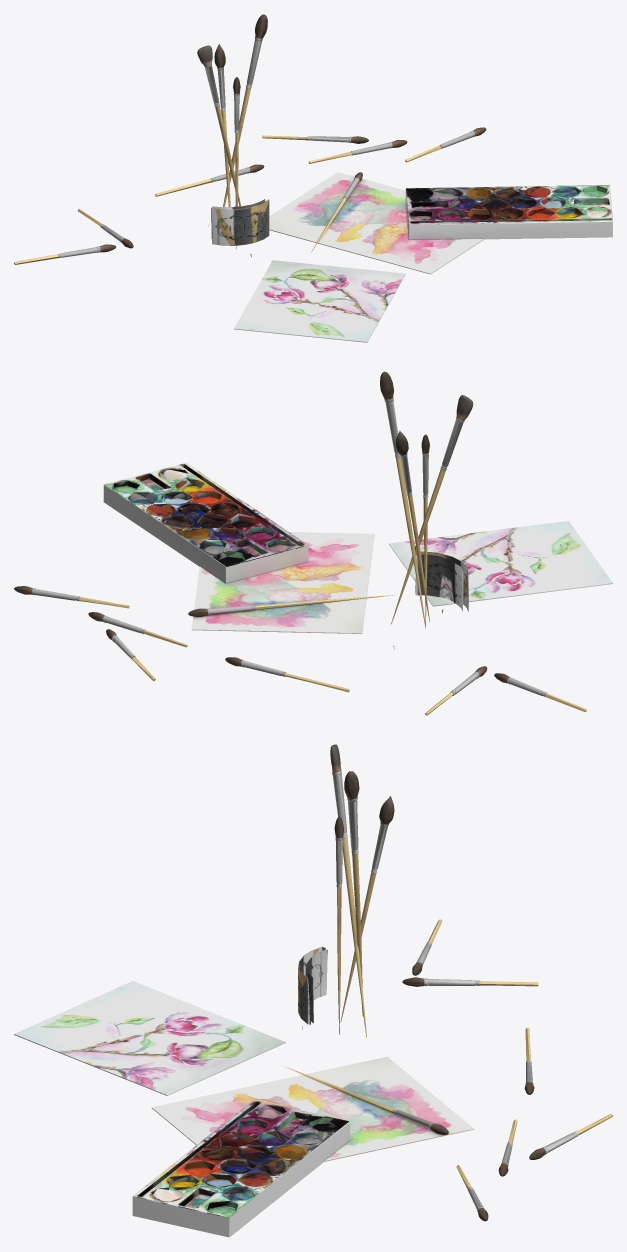
3 views of the same model, one above another, from view 1: azimuth 30°, elevation 25°; view 2: azimuth 150°, elevation 25°; view 3: azimuth 270°, elevation 25° (orthographic). The views are drawn at different scales.
Visible parts, largest first — view 1: solid_001, solid_002, solid_013, solid_012, solid_007, solid_004, solid_008, solid_005; view 2: solid_001, solid_002, solid_013, solid_012, solid_007, solid_008, glass_001, solid_005, solid_006, solid_011, solid_009; view 3: solid_002, solid_001, solid_013, solid_012, solid_007, solid_008, solid_005, glass_001, solid_011, solid_004, solid_006.
Part boxes in pixels (bbox=[...]): solid_001: bbox=[269, 172, 484, 274]; solid_002: bbox=[234, 260, 405, 342]; solid_013: bbox=[406, 185, 612, 224]; solid_012: bbox=[405, 185, 612, 239]; solid_007: bbox=[58, 37, 474, 257]; solid_004: bbox=[212, 199, 269, 245]; solid_008: bbox=[14, 133, 441, 264]; solid_005: bbox=[100, 14, 486, 252]; solid_001: bbox=[191, 532, 374, 633]; solid_002: bbox=[389, 521, 612, 606]; solid_013: bbox=[104, 463, 307, 566]; solid_012: bbox=[103, 463, 308, 583]; solid_007: bbox=[31, 397, 547, 696]; solid_008: bbox=[78, 497, 586, 715]; glass_001: bbox=[393, 551, 468, 649]; solid_005: bbox=[14, 371, 509, 683]; solid_006: bbox=[395, 457, 425, 627]; solid_011: bbox=[391, 469, 445, 624]; solid_009: bbox=[407, 495, 429, 621]; solid_002: bbox=[14, 981, 285, 1095]; solid_001: bbox=[151, 1056, 474, 1167]; solid_013: bbox=[133, 1099, 348, 1217]; solid_012: bbox=[132, 1121, 349, 1237]; solid_007: bbox=[332, 771, 578, 1211]; solid_008: bbox=[282, 887, 612, 1189]; solid_005: bbox=[334, 771, 545, 1221]; glass_001: bbox=[299, 947, 327, 1029]; solid_011: bbox=[342, 837, 366, 1037]; solid_004: bbox=[298, 946, 322, 1024]; solid_006: bbox=[352, 853, 363, 1016].
Size of the model in its own units: 1.88 by 0.7884 by 1.51.
1 material, 1 textured.
